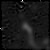node: (21, 22, 33, 36)
